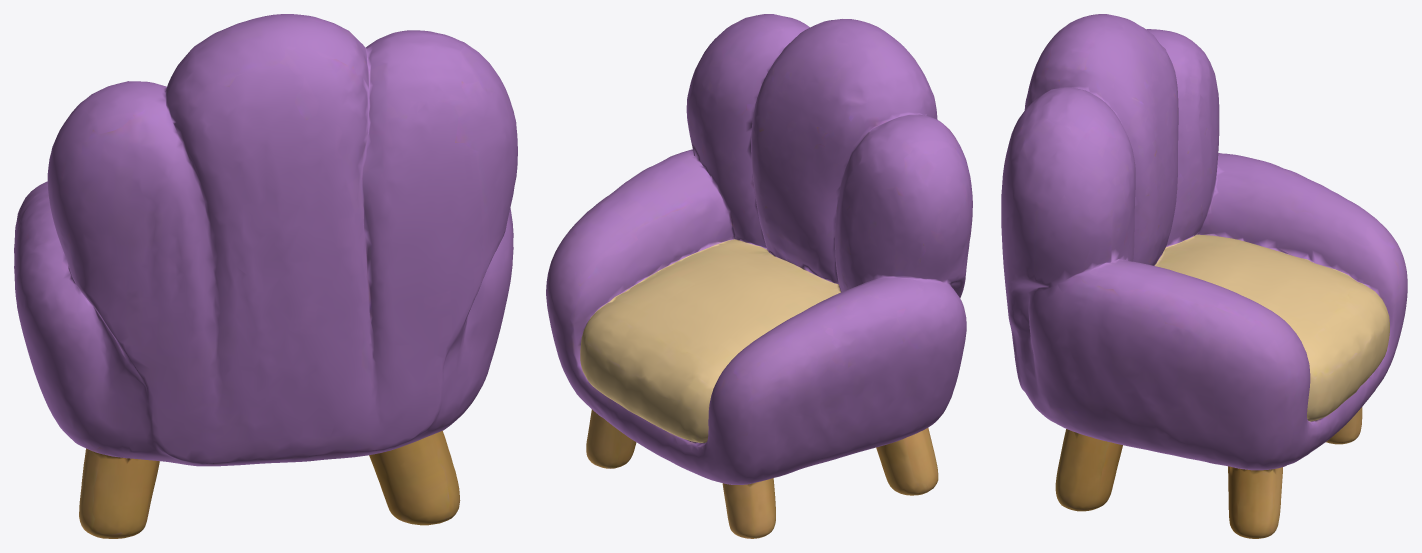
Rendered from item_armchair.glb.
The picture shows the model from 3 angles, left to right: view 1: azimuth 30°, elevation 25°; view 2: azimuth 150°, elevation 25°; view 3: azimuth 270°, elevation 25°; orthographic projection. The views are drawn at different scales.
Parts seen in each view (by area): view 1: geometry_0; view 2: geometry_0; view 3: geometry_0.
Part boxes in pixels (<box>): geometry_0: <box>14,14,517,538</box>; geometry_0: <box>546,14,972,538</box>; geometry_0: <box>1001,14,1407,538</box>.
Bounding box in the file's own units: 0.8216 × 0.8831 × 0.7585.
1 material, 1 textured.
